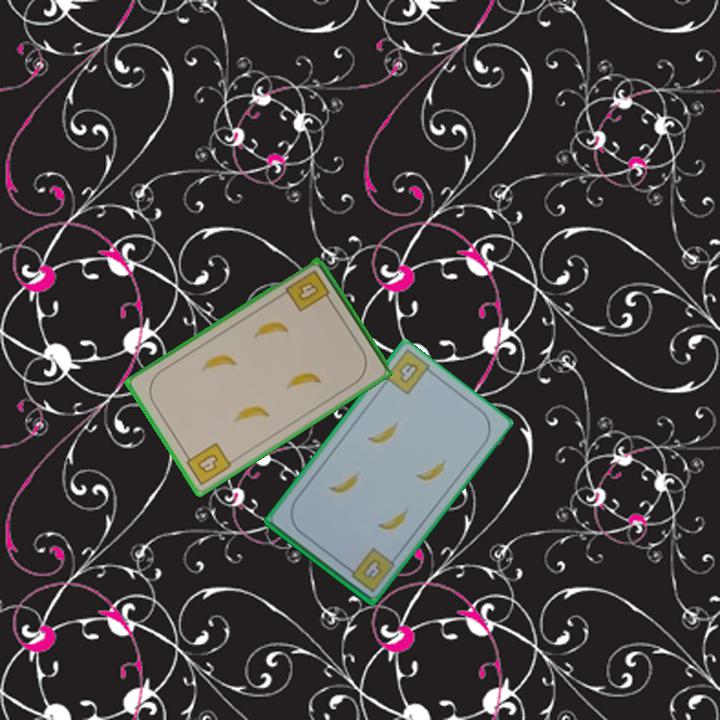4b: (342, 544, 395, 595), (180, 439, 234, 489), (282, 266, 335, 315), (395, 358, 421, 386)
